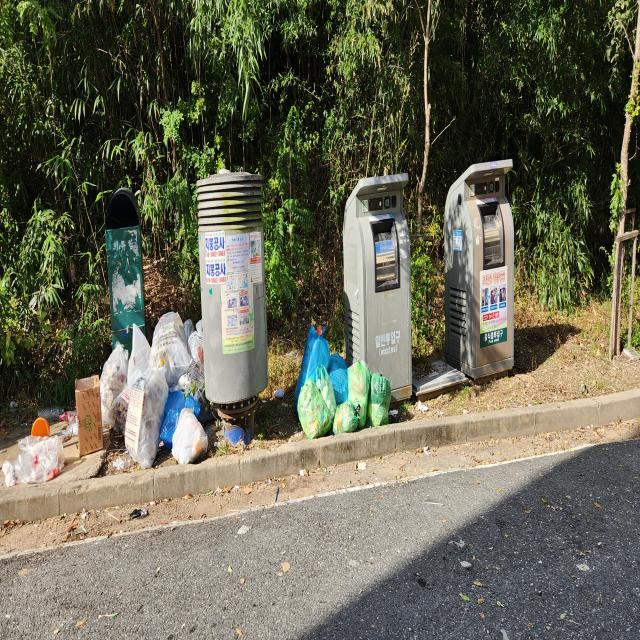CleanNet: (434, 149, 529, 390), (339, 164, 426, 420)
General Waste: (14, 417, 92, 490), (161, 384, 222, 456), (73, 371, 110, 466), (150, 306, 189, 380), (99, 340, 130, 432), (127, 380, 160, 464), (165, 422, 215, 474), (342, 339, 372, 424), (188, 315, 214, 402), (366, 372, 398, 442), (299, 383, 332, 442), (328, 403, 364, 446)
